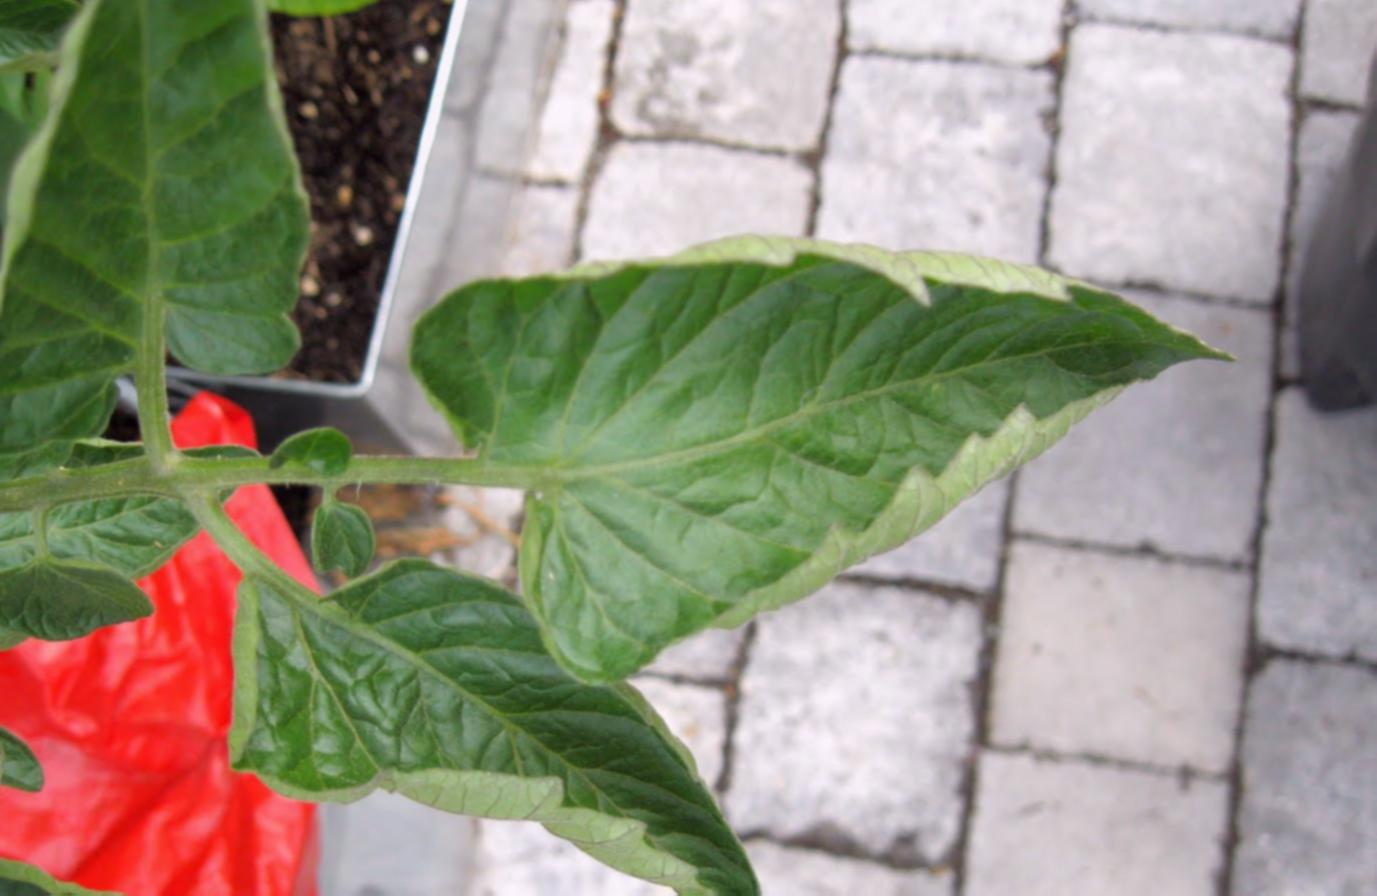Tomato leaf: (408, 250, 1197, 686), (208, 544, 814, 896), (0, 0, 319, 463)
